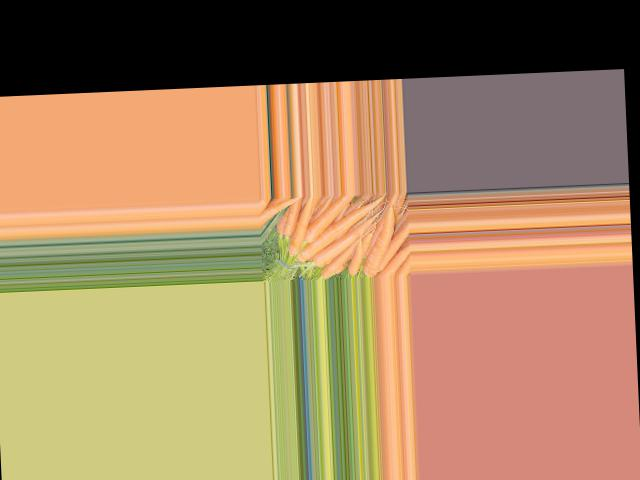carrot: (302, 193, 356, 242)
